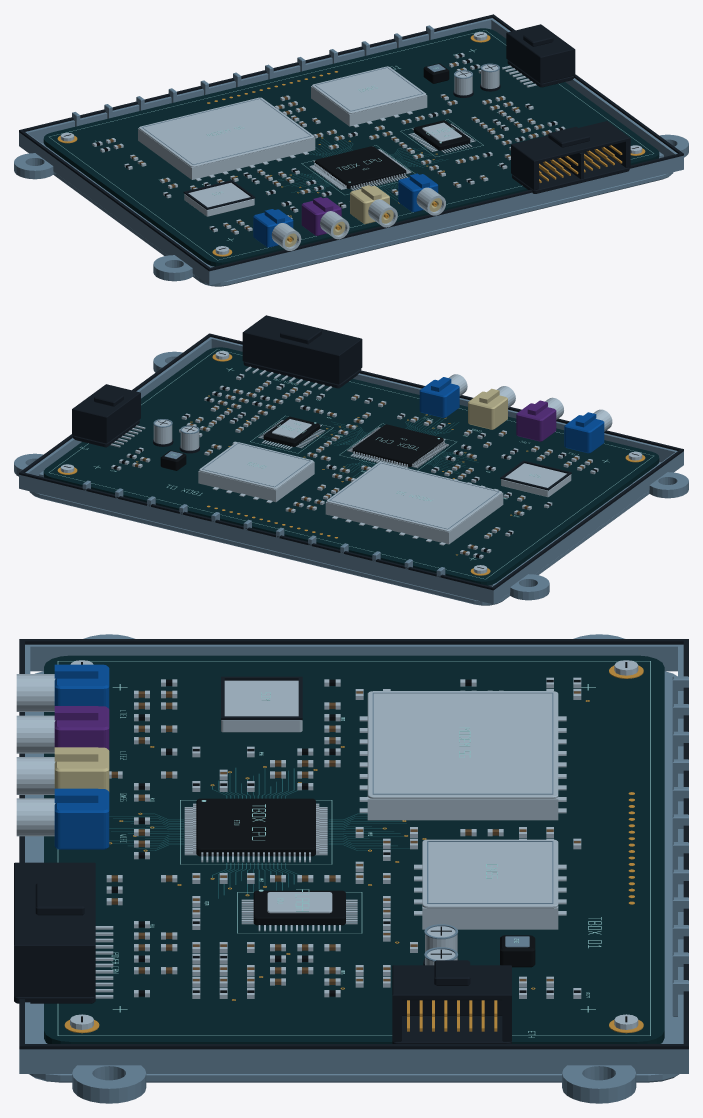
The model's file is TBOX.obj.
3 renders of one model, top to bottom at view 1: azimuth 30°, elevation 25°; view 2: azimuth 150°, elevation 25°; view 3: azimuth 270°, elevation 25°, orthographic. The views are drawn at different scales.
Visible parts, largest first — view 1: pcb_substrate_0001, shield_can_lid_0001, chassis_rim_0001, chassis_rim_0002, shield_can_lid_0002, chassis_backplate_0001, chassis_rim_0003, chip_substrate_0001, connector_top_0001, shield_can_wall_0001, chassis_seal_0002, connector_base_0001 (+26 smaller); view 2: pcb_substrate_0001, chassis_rim_0002, shield_can_lid_0001, connector_back_0001, shield_can_lid_0002, chassis_backplate_0001, chassis_rim_0003, chip_substrate_0001, connector_top_0001, chassis_seal_0002, chassis_rim_0001, shield_can_wall_0002 (+22 smaller); view 3: pcb_substrate_0001, shield_can_lid_0001, chassis_rim_0004, shield_can_lid_0002, chassis_backplate_0001, chassis_rim_0003, chip_substrate_0001, connector_top_0001, connector_side_0002, shield_can_wall_0004, chassis_seal_0003, chassis_seal_0004 (+25 smaller).
Part boxes in pixels (left/top/right/bottom): pcb_substrate_0001: left=43, top=28, right=659, bottom=266; shield_can_lid_0001: left=139, top=97, right=314, bottom=167; chassis_rim_0001: left=206, top=155, right=683, bottom=285; chassis_rim_0002: left=19, top=18, right=493, bottom=147; shield_can_lid_0002: left=312, top=66, right=426, bottom=113; chassis_backplate_0001: left=42, top=143, right=673, bottom=286; chassis_rim_0003: left=22, top=133, right=210, bottom=282; chip_substrate_0001: left=315, top=146, right=406, bottom=188; connector_top_0001: left=511, top=121, right=630, bottom=162; shield_can_wall_0001: left=191, top=137, right=315, bottom=179; chassis_seal_0002: left=19, top=14, right=494, bottom=132; connector_base_0001: left=512, top=153, right=629, bottom=193; pcb_substrate_0001: left=43, top=347, right=659, bottom=585; chassis_rim_0002: left=19, top=474, right=496, bottom=604; shield_can_lid_0001: left=326, top=462, right=501, bottom=531; connector_back_0001: left=242, top=330, right=341, bottom=384; shield_can_lid_0002: left=199, top=442, right=313, bottom=489; chassis_backplate_0001: left=29, top=462, right=660, bottom=605; chassis_rim_0003: left=492, top=452, right=680, bottom=601; chip_substrate_0001: left=352, top=424, right=443, bottom=466; connector_top_0001: left=243, top=315, right=361, bottom=356; chassis_seal_0002: left=19, top=471, right=495, bottom=590; chassis_rim_0001: left=209, top=337, right=683, bottom=466; shield_can_wall_0002: left=325, top=502, right=449, bottom=544; pcb_substrate_0001: left=44, top=655, right=664, bottom=1043; shield_can_lid_0001: left=367, top=691, right=558, bottom=798; chassis_rim_0004: left=30, top=1049, right=677, bottom=1073; shield_can_lid_0002: left=422, top=839, right=558, bottom=908; chassis_backplate_0001: left=29, top=671, right=679, bottom=1082; chassis_rim_0003: left=30, top=644, right=677, bottom=671; chip_substrate_0001: left=196, top=798, right=315, bottom=856; connector_top_0001: left=14, top=862, right=95, bottom=949; connector_side_0002: left=14, top=941, right=94, bottom=996; shield_can_wall_0004: left=371, top=798, right=554, bottom=820; chassis_seal_0003: left=25, top=639, right=683, bottom=644; chassis_seal_0004: left=25, top=1044, right=683, bottom=1049.
Bounding box in the file's own units: 198 × 20.6 × 124.
